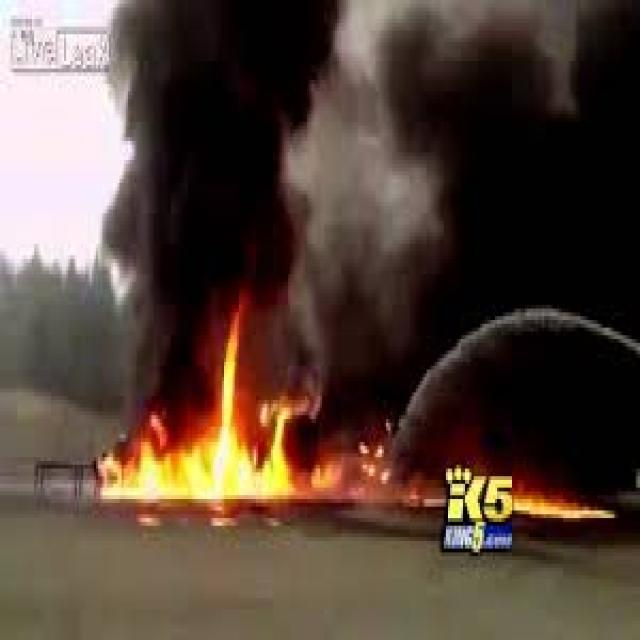Fire: (185, 296, 309, 506), (88, 398, 182, 533), (514, 470, 618, 550)
Smoke: (111, 0, 337, 293), (344, 0, 512, 275), (513, 0, 640, 282)
